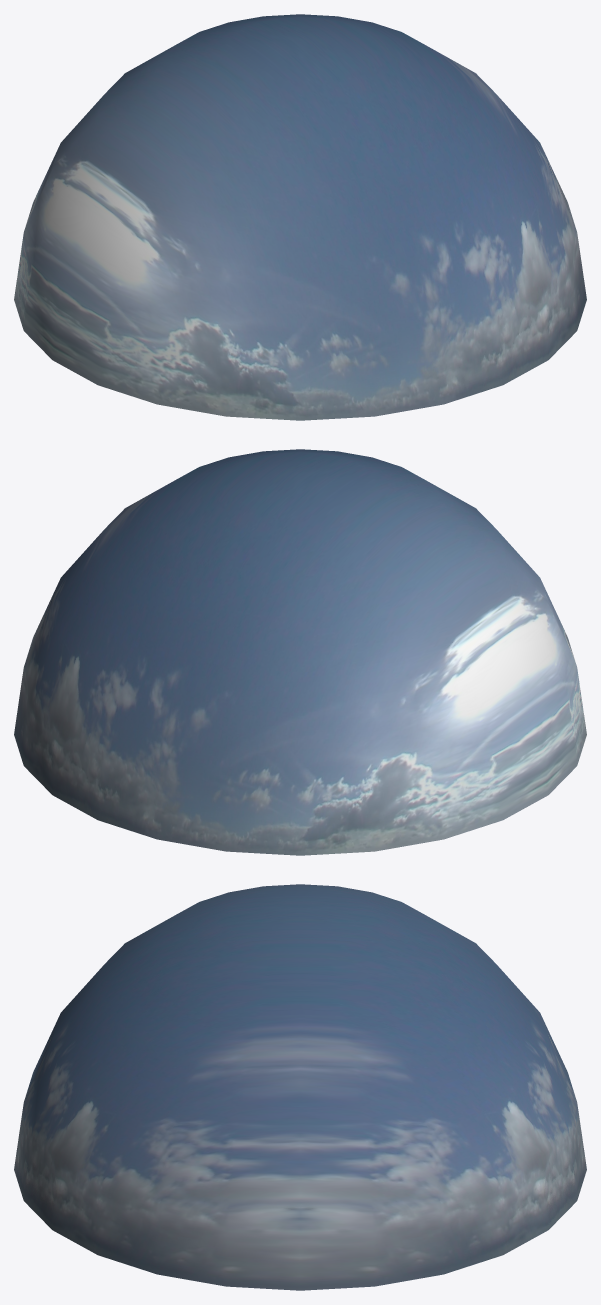
Rendered from dome1.dae.
3 views of the same model, one above another, from view 1: azimuth 30°, elevation 25°; view 2: azimuth 150°, elevation 25°; view 3: azimuth 270°, elevation 25° (orthographic).
Parts seen in each view (by area): view 1: SketchUp; view 2: SketchUp; view 3: SketchUp.
Boxes of the visible parts, left/top/right/bottom form: SketchUp: left=14, top=14, right=586, bottom=420; SketchUp: left=14, top=449, right=586, bottom=855; SketchUp: left=14, top=884, right=586, bottom=1290.
Bounding box in the file's own units: 66.51 × 66.51 × 33.26.
Materials: 1 (1 with a texture image).
